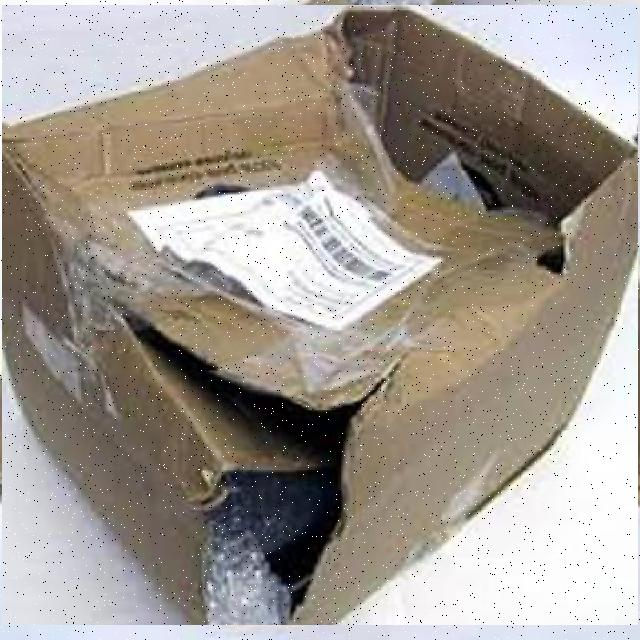defect: (2, 4, 638, 624)
